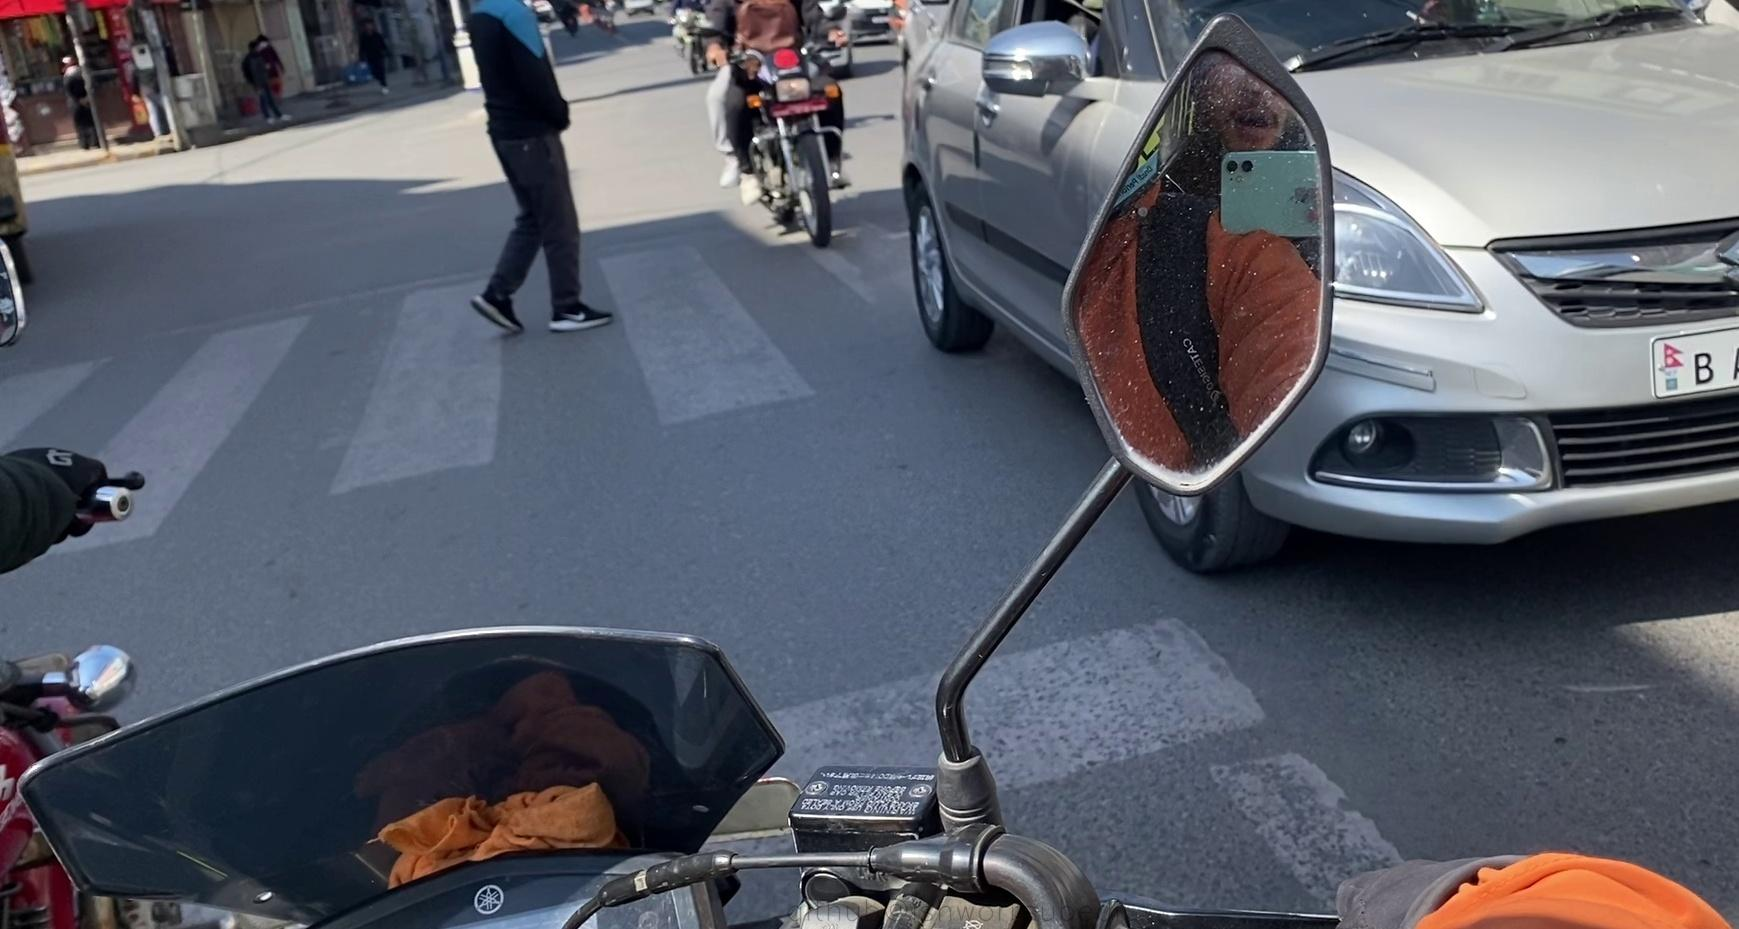license-plate: (765, 86, 853, 121)
